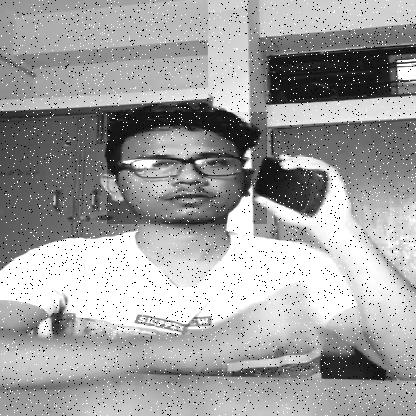Normal: (107, 112, 267, 224)
